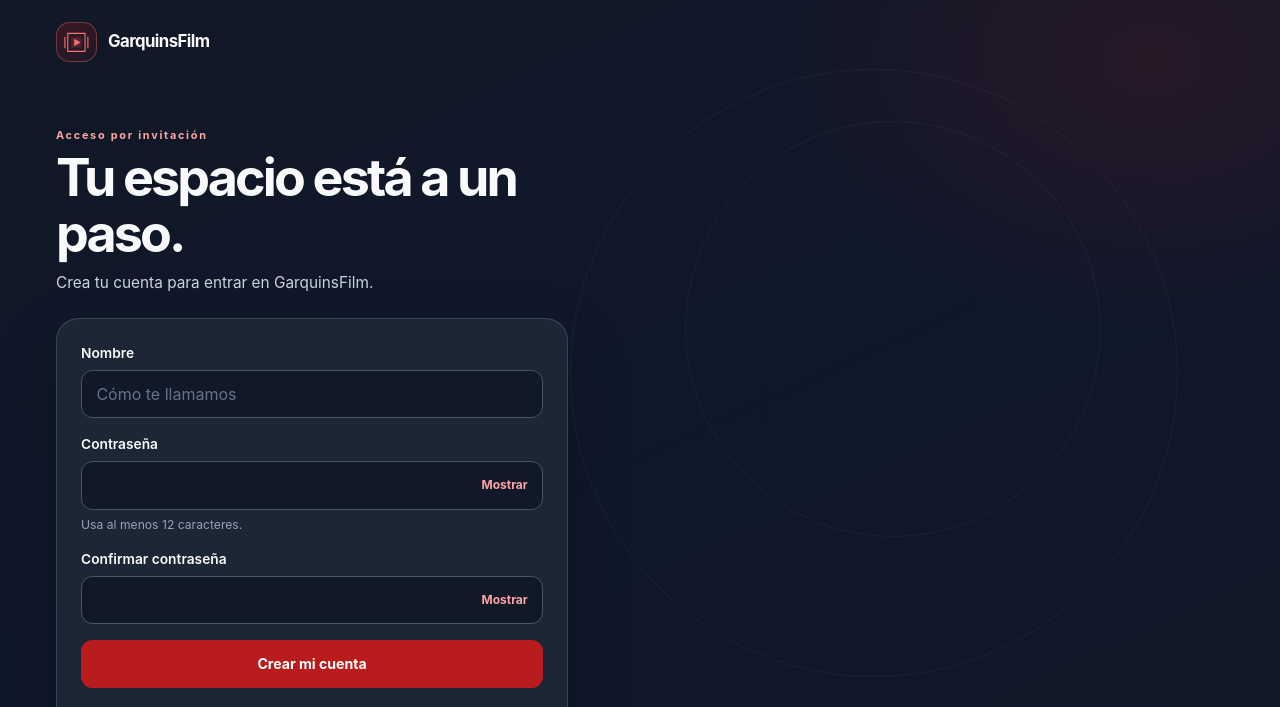
flujo de autenticación y navegación privada › rechaza invitaciones inválidas sin enviar datos y representa vencidas/revocadas como no disponibles
In the field labelled "Nombre": (312, 394) [81, 370, 543, 418], type "Persona"
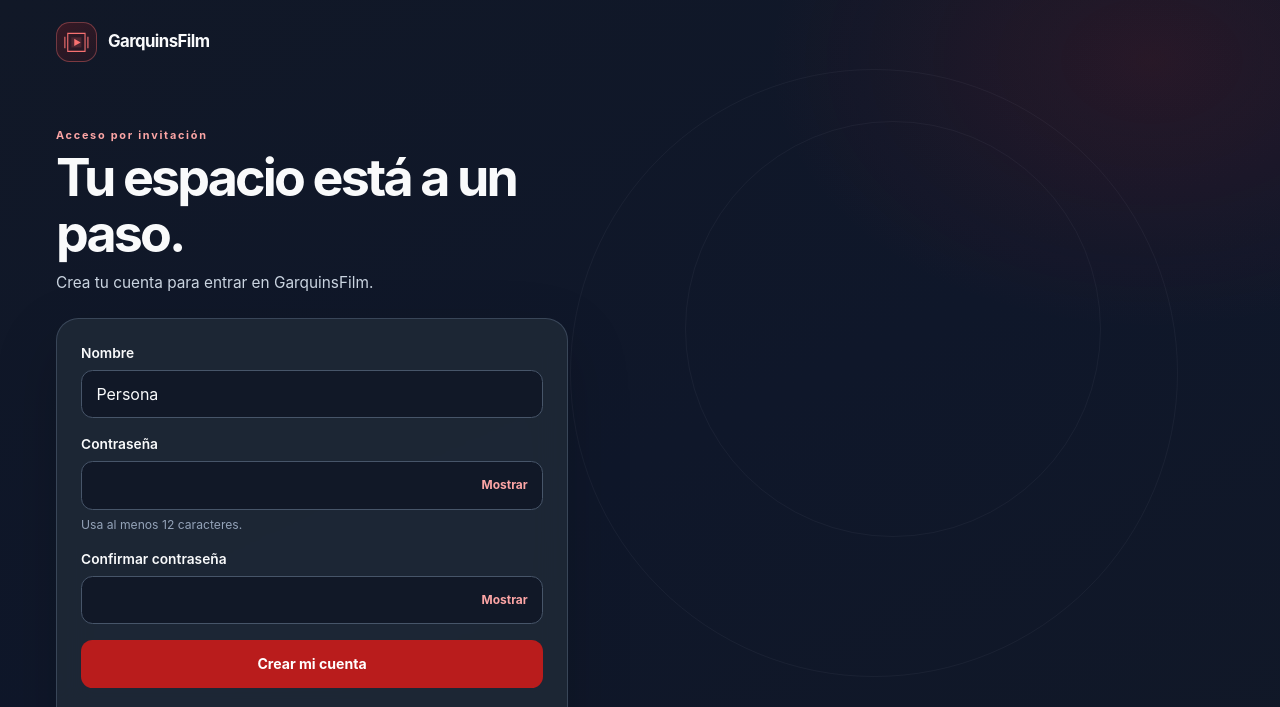
In the password field labelled "Contraseña": (312, 485) [81, 461, 543, 510], type "a-secure-password-123"
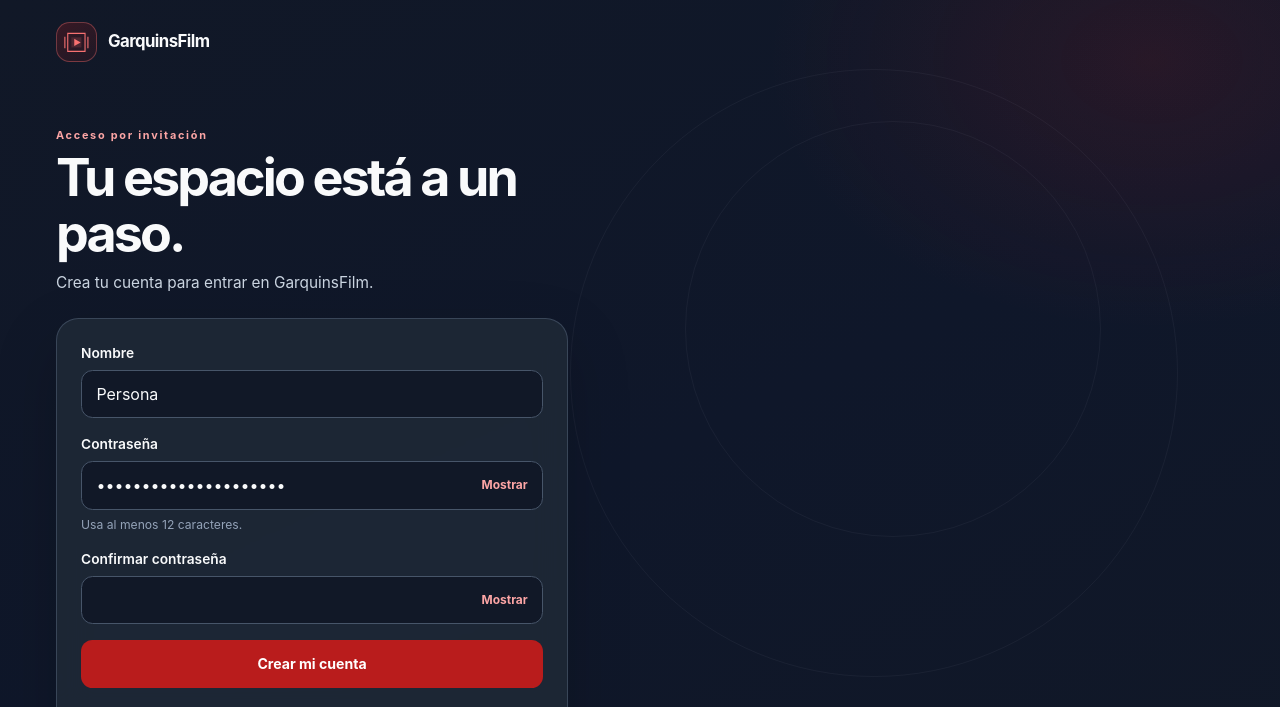
In the password field labelled "Confirmar contraseña": (312, 600) [81, 576, 543, 624], type "a-secure-password-123"
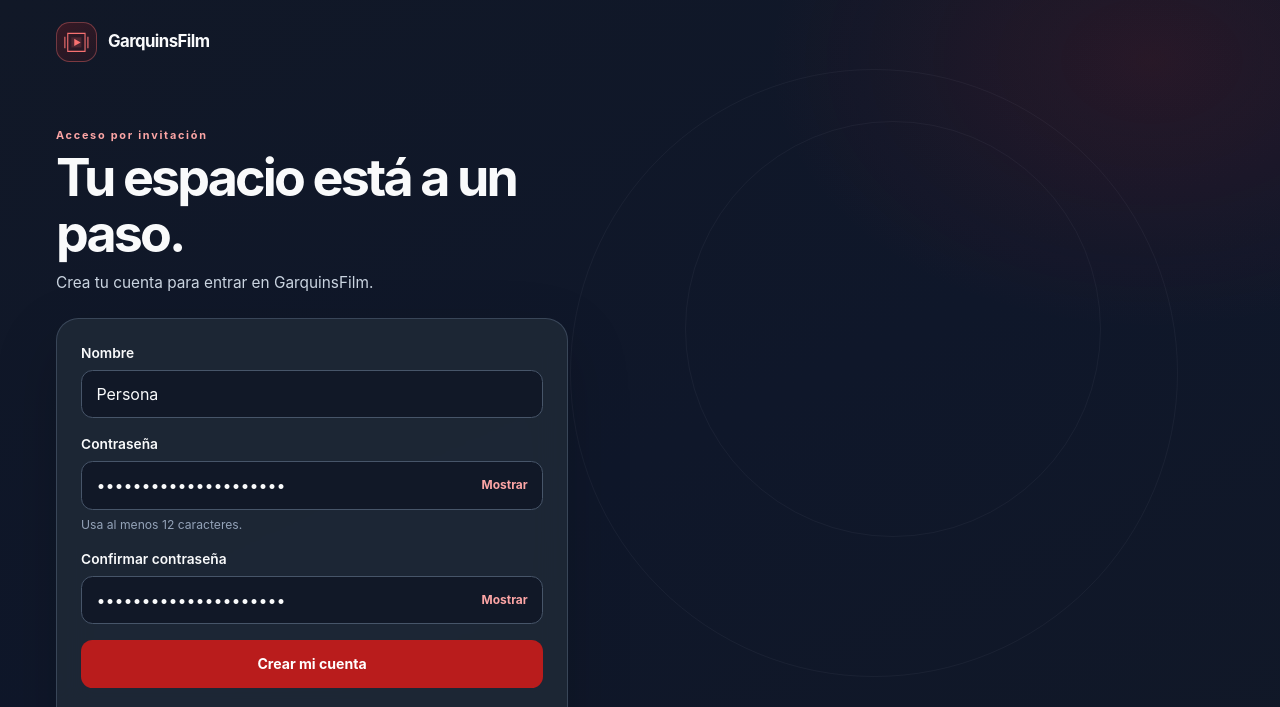
Click the button "Crear mi cuenta": click(312, 664) [81, 640, 543, 688]
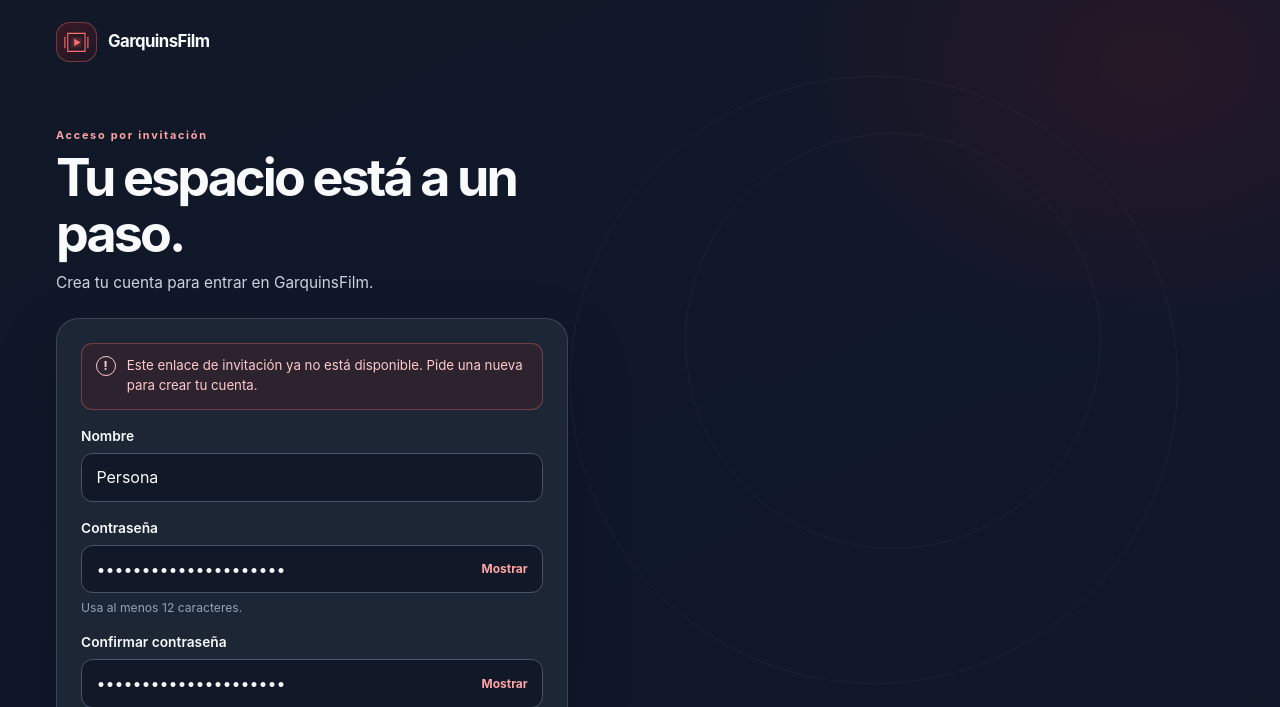
Expected: the message shows "Este enlace de invitación ya no está disponible.", [127, 358, 523, 393]
